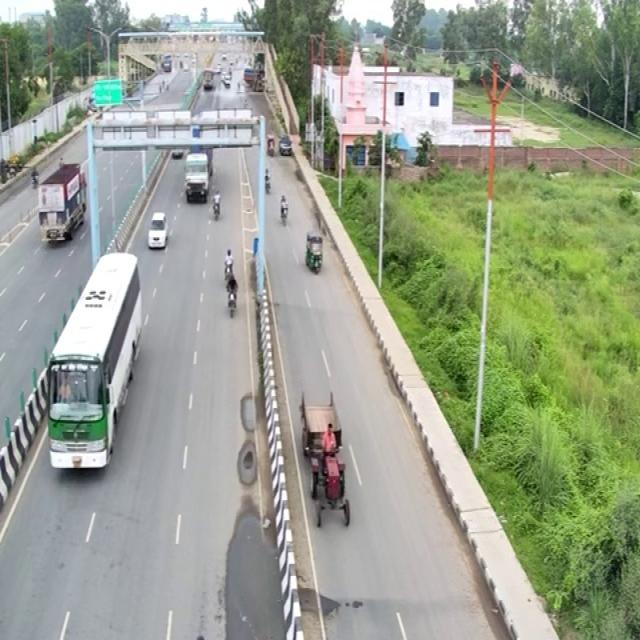car: (145, 207, 171, 252)
